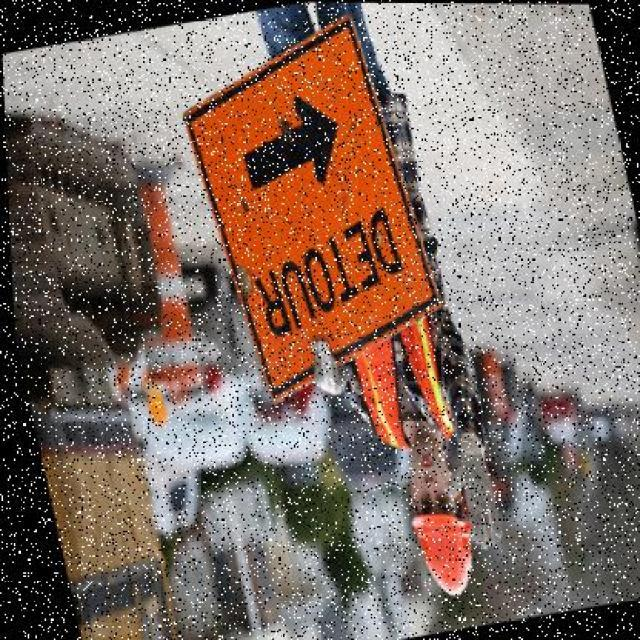helmet: (396, 499, 480, 607)
vest: (340, 308, 454, 458)
